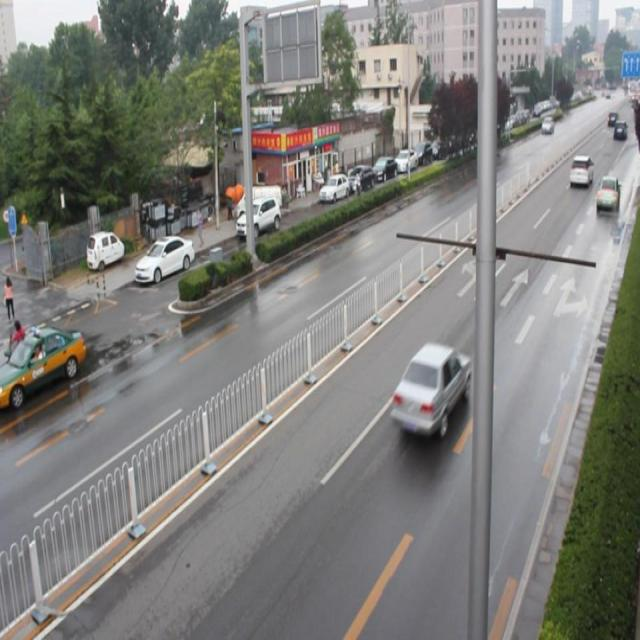car: (392, 342, 469, 441), (568, 152, 591, 187), (595, 175, 618, 210)
